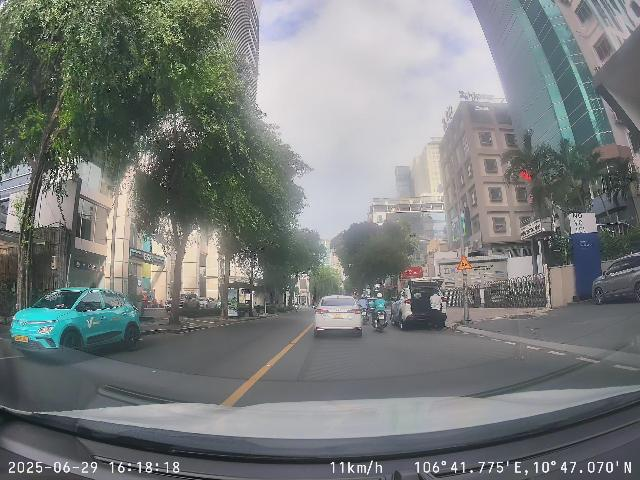225-chu-y-tre-em: (457, 255, 472, 270)
